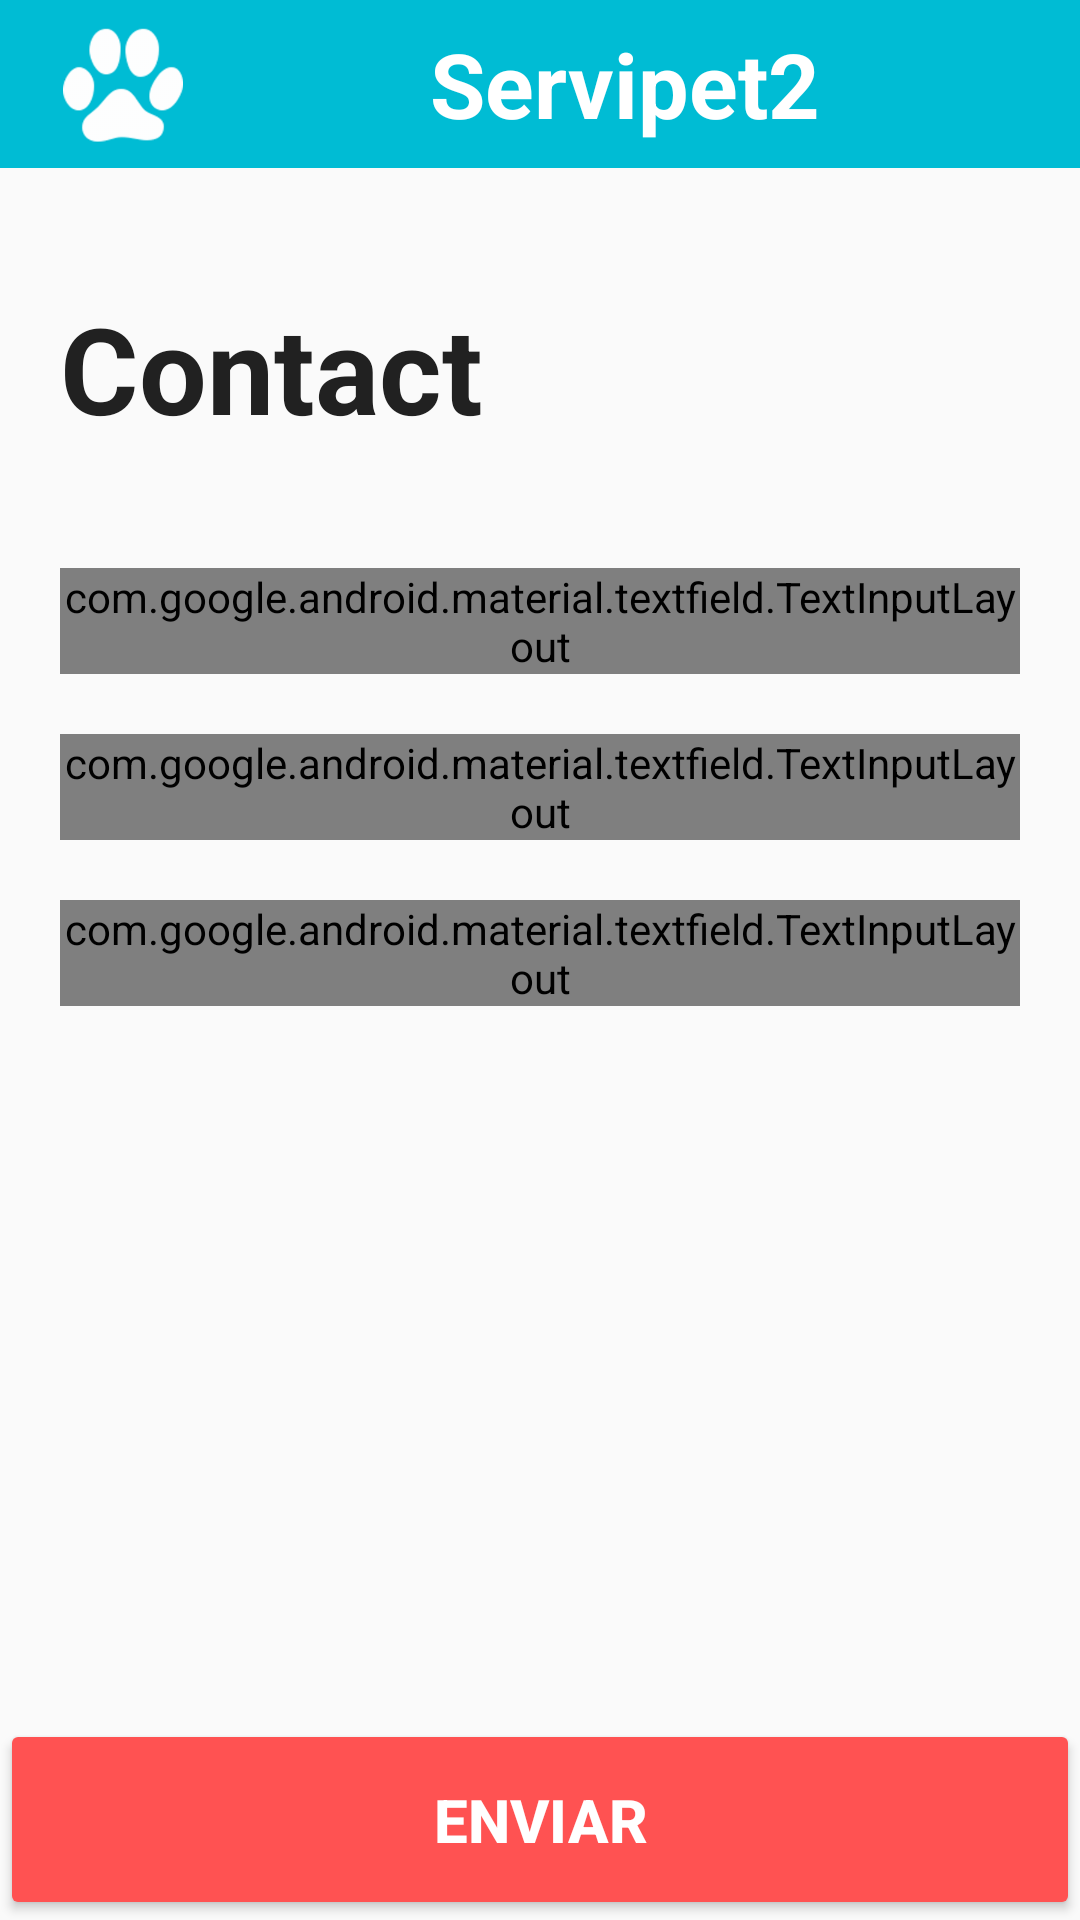

Named icons in this screenshot (1080×1920) and their bounding boxes, (x1, y1, x2, y2):
dogpaw: (63, 28, 183, 142)
